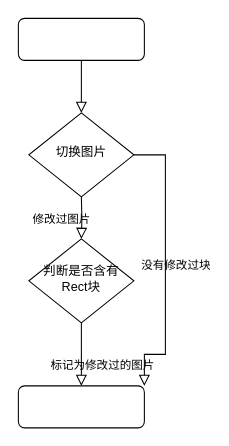
The diagram is 229 pixels wide and 446 high, and some of its shapes have lost their labels. The box of each missing label's shape, as (x1, y1, x2, y2) in pixels:
Repair Lamp: (17, 385, 144, 428)
开始编辑: (17, 17, 144, 60)
